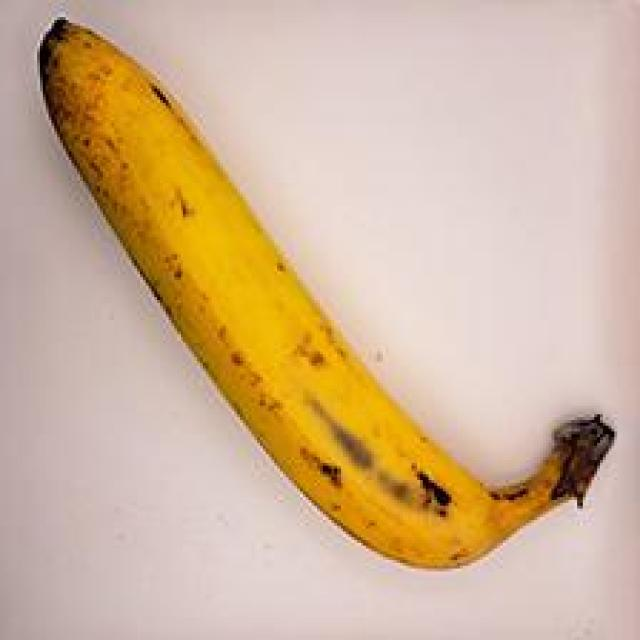Overripe: (24, 0, 618, 589)
